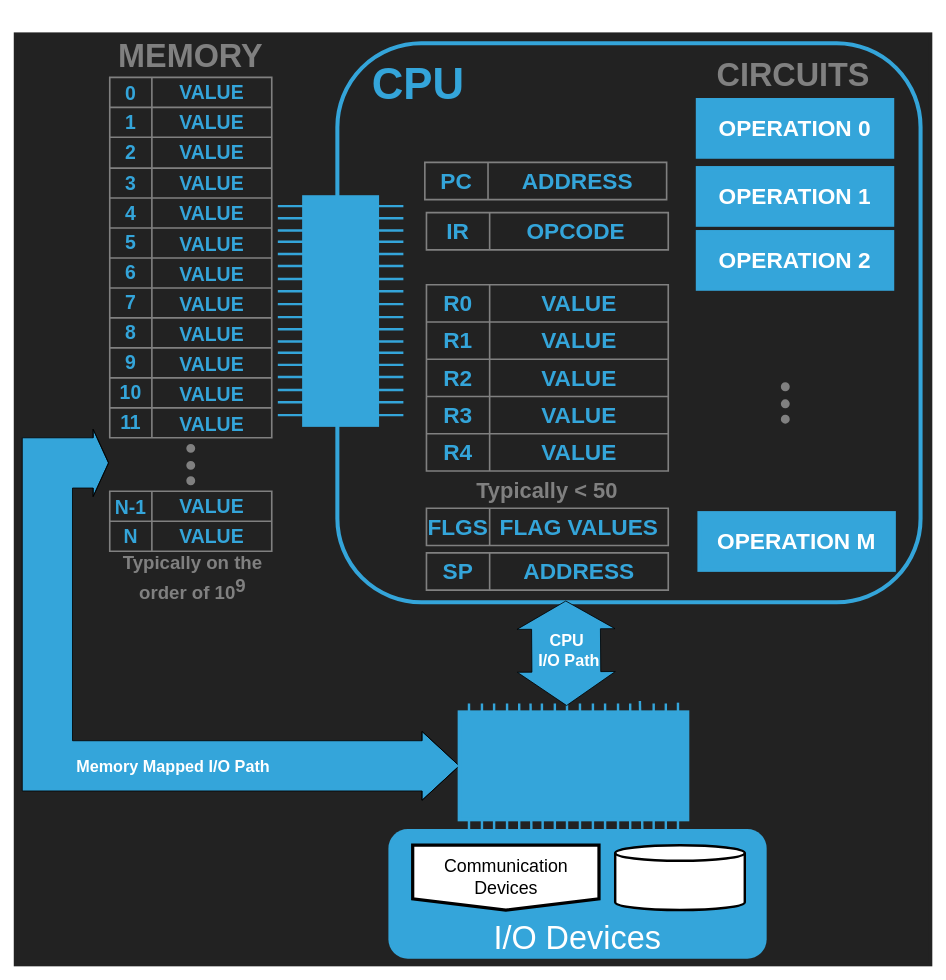
The diagram is 946 pixels wide and 980 high, and some of its shapes have lost their labels. The centre of each missing label's shape, as x and y in pixels:
I/O BUS: the point at 573,765
MEMORY BUS: the point at 340,310
Storage Devices: the point at 680,877
